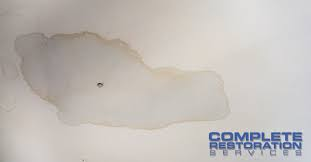Wet-floor: (14, 26, 246, 129)
